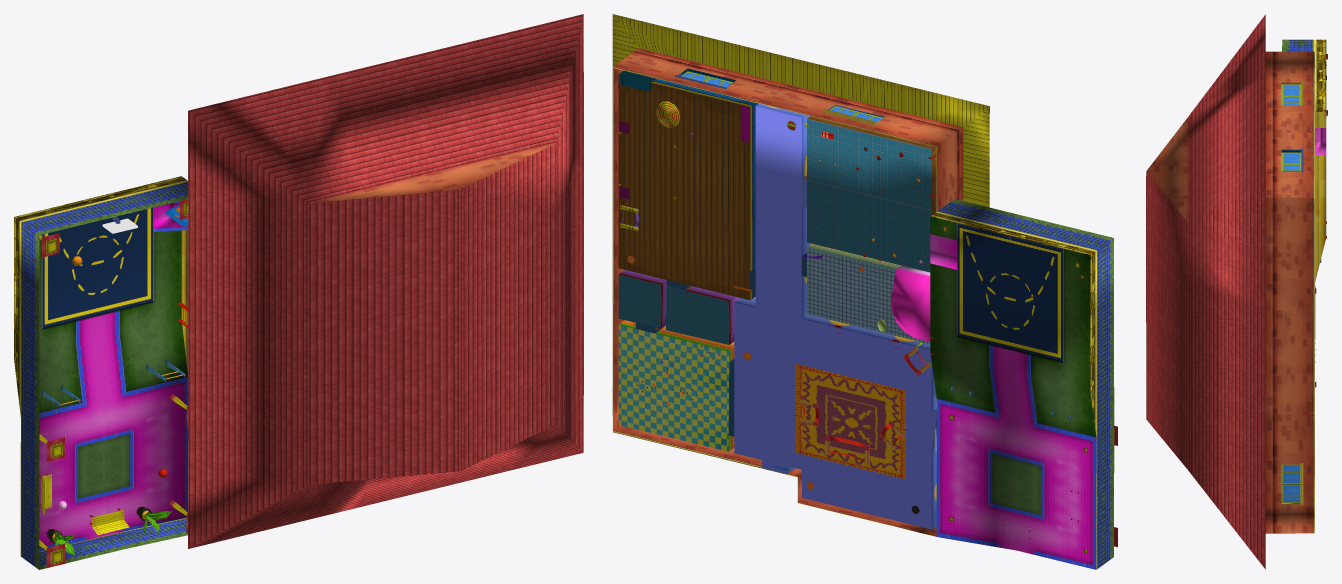
Rendered from interior-01.obj.
3 renders of one model, left to right at view 1: azimuth 30°, elevation 25°; view 2: azimuth 150°, elevation 25°; view 3: azimuth 270°, elevation 25°, orthographic. The views are drawn at different scales.
Visible parts, largest first — view 1: roof, backyard; view 2: house, backyard, roof, bathtub-06, sofa_01, m_proxyWindows; view 3: roof, backyard, m_proxyWindows, house.
Part boxes in pixels (x1=…): roof: x1=188, y1=14, x2=583, y2=548; backyard: x1=14, y1=133, x2=188, y2=569; house: x1=618, y1=61, x2=936, y2=529; backyard: x1=612, y1=48, x2=1117, y2=569; roof: x1=612, y1=14, x2=989, y2=477; bathtub-06: x1=891, y1=265, x2=930, y2=341; sofa_01: x1=800, y1=342, x2=931, y2=464; m_proxyWindows: x1=681, y1=71, x2=883, y2=123; roof: x1=1146, y1=14, x2=1265, y2=569; backyard: x1=1265, y1=39, x2=1327, y2=533; m_proxyWindows: x1=1281, y1=84, x2=1301, y2=502; house: x1=1281, y1=79, x2=1314, y2=504.
Size of the model in its own units: 22.27 by 17.45 by 7.44.
Materials: 7 (7 with a texture image).
